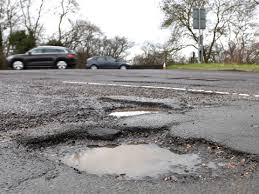pothole: (16, 123, 259, 188), (75, 85, 193, 119)
